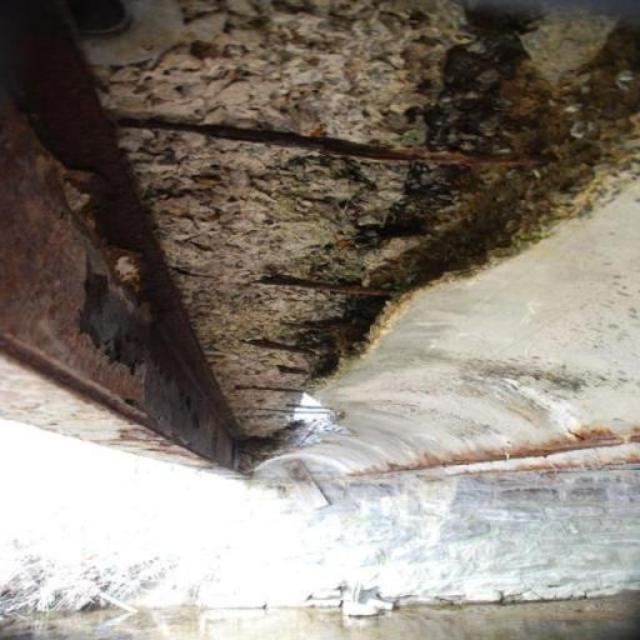D0w0: (97, 0, 577, 469)
